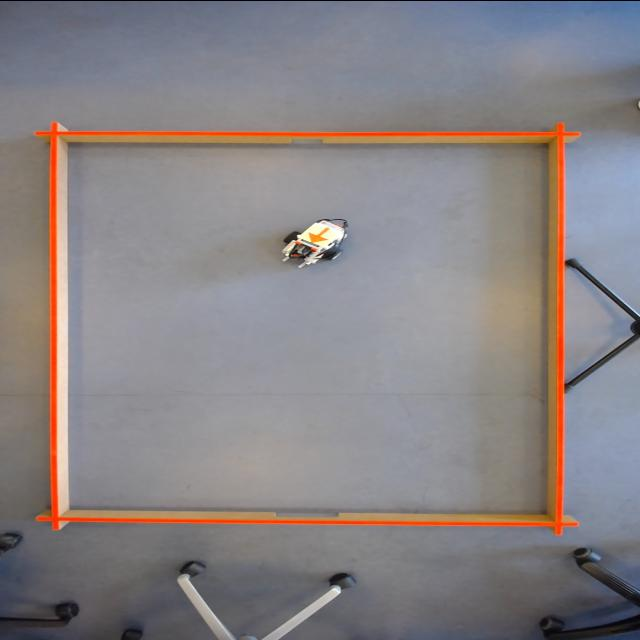robot: (295, 220, 346, 247)
